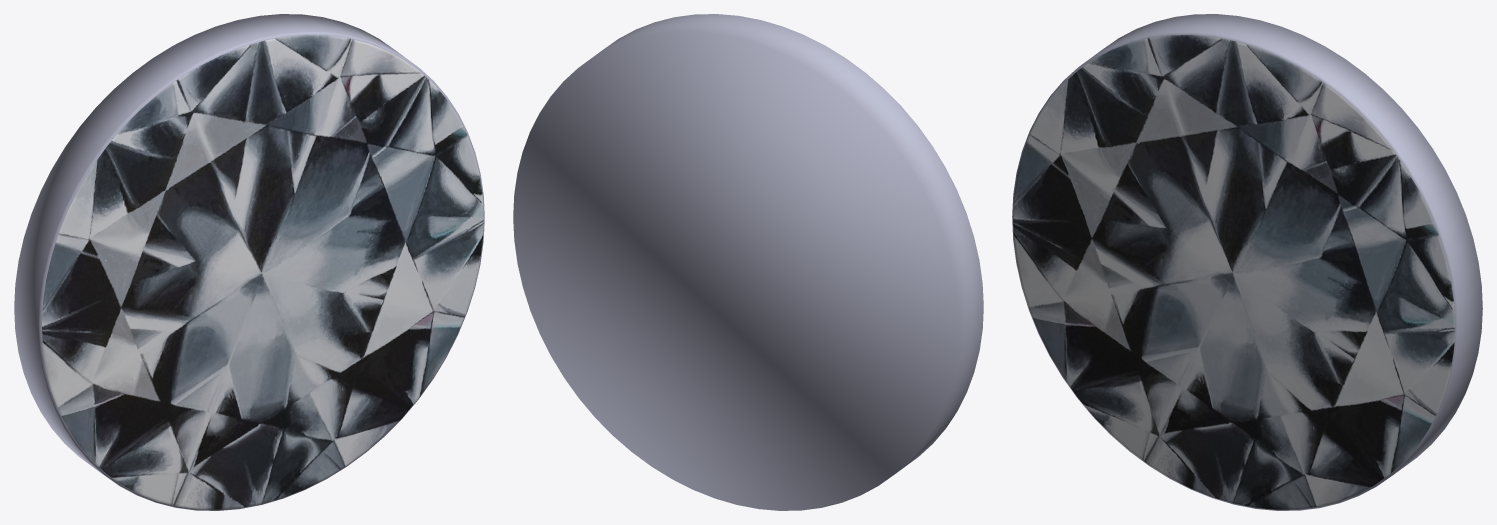
The model's file is shelley.glb.
3 views of the same model, side by side, from view 1: azimuth 30°, elevation 25°; view 2: azimuth 150°, elevation 25°; view 3: azimuth 330°, elevation 25° (orthographic).
Parts seen in each view (by area): view 1: shelley; view 2: shelley; view 3: shelley.
Boxes of the visible parts, <box> form: shelley: <box>14,14,484,510</box>; shelley: <box>513,14,983,510</box>; shelley: <box>1012,14,1482,510</box>.
Size of the model in its own units: 0.3001 by 0.3001 by 0.03.
2 materials, 1 textured.
